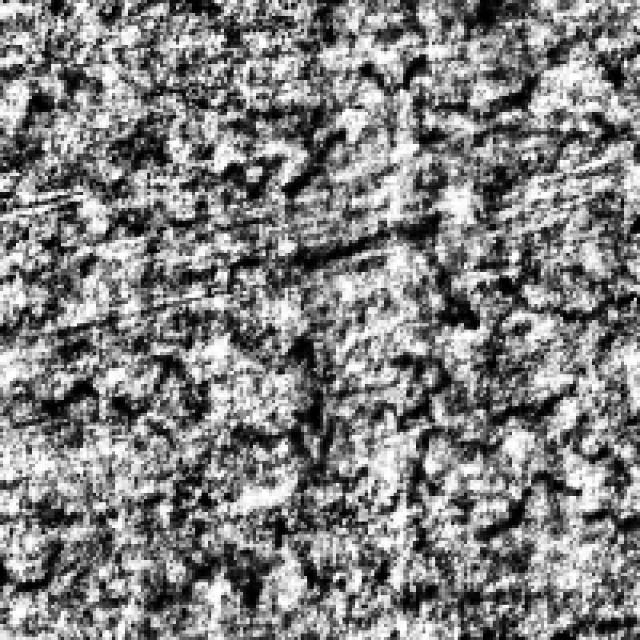Pitted_Surface: (154, 20, 634, 326), (0, 307, 387, 598), (371, 339, 634, 547)
